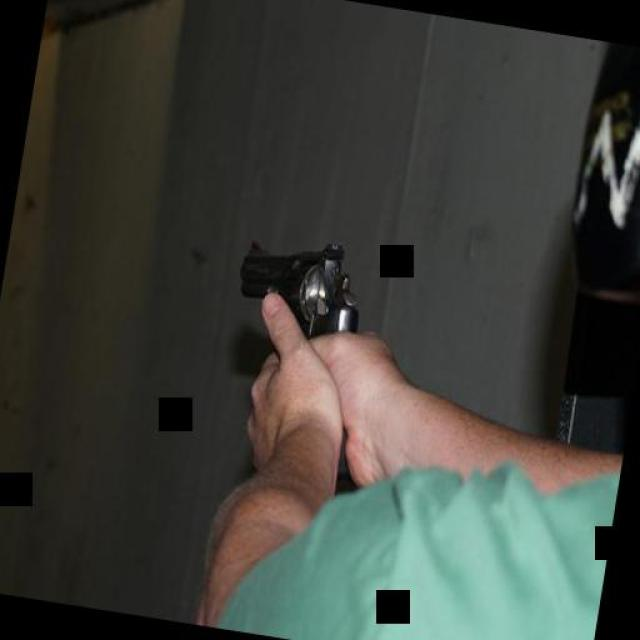gun: (208, 218, 382, 480)
